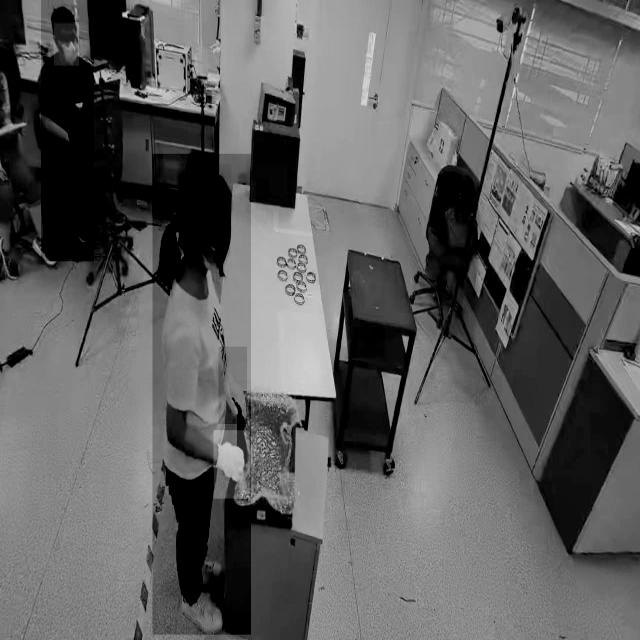face_mask: (54, 22, 80, 67)
hand_glove: (214, 430, 250, 500), (219, 347, 247, 424)
hand_noglove: (0, 162, 10, 186)
head_nohelmet: (178, 164, 232, 212), (50, 4, 76, 25)
person: (152, 154, 252, 636), (41, 0, 95, 262)
shoes: (176, 584, 225, 637), (32, 234, 62, 272), (0, 236, 21, 288)
